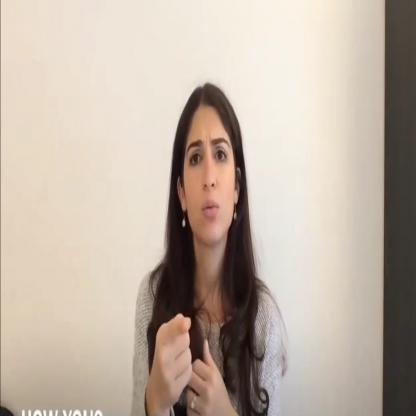HowAreYou: (137, 295, 239, 416)
